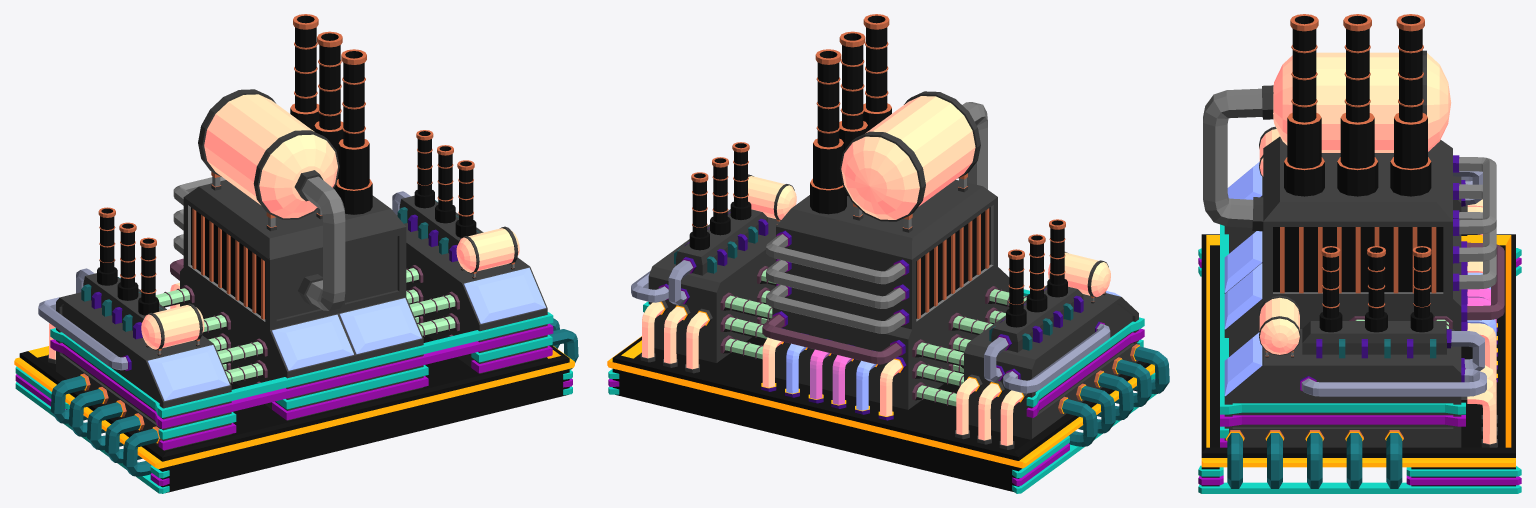
Rendered from Assembler_LOD0.fbx.
3 renders of one model, left to right at view 1: azimuth 30°, elevation 25°; view 2: azimuth 150°, elevation 25°; view 3: azimuth 270°, elevation 25°, orthographic. The views are drawn at different scales.
Visible parts, largest first — view 1: Assembler_LOD0; view 2: Assembler_LOD0; view 3: Assembler_LOD0.
Part boxes in pixels (<box>): Assembler_LOD0: <box>14,14,578,493</box>; Assembler_LOD0: <box>607,14,1169,493</box>; Assembler_LOD0: <box>1198,14,1521,493</box>.
Bounding box in the file's own units: 8748 × 6415 × 4908.
